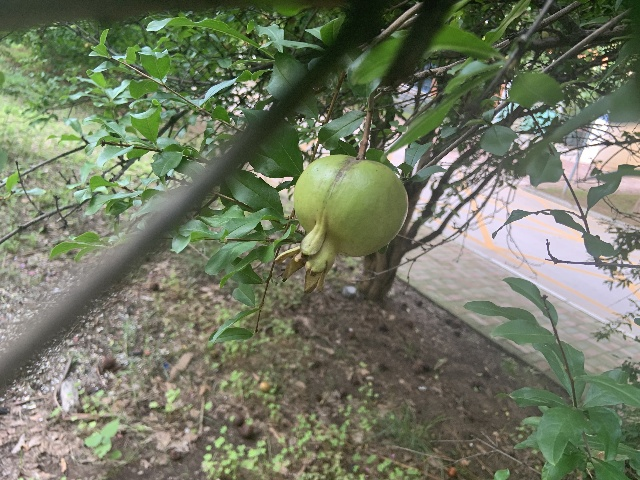mid-growth: (273, 154, 408, 294)
